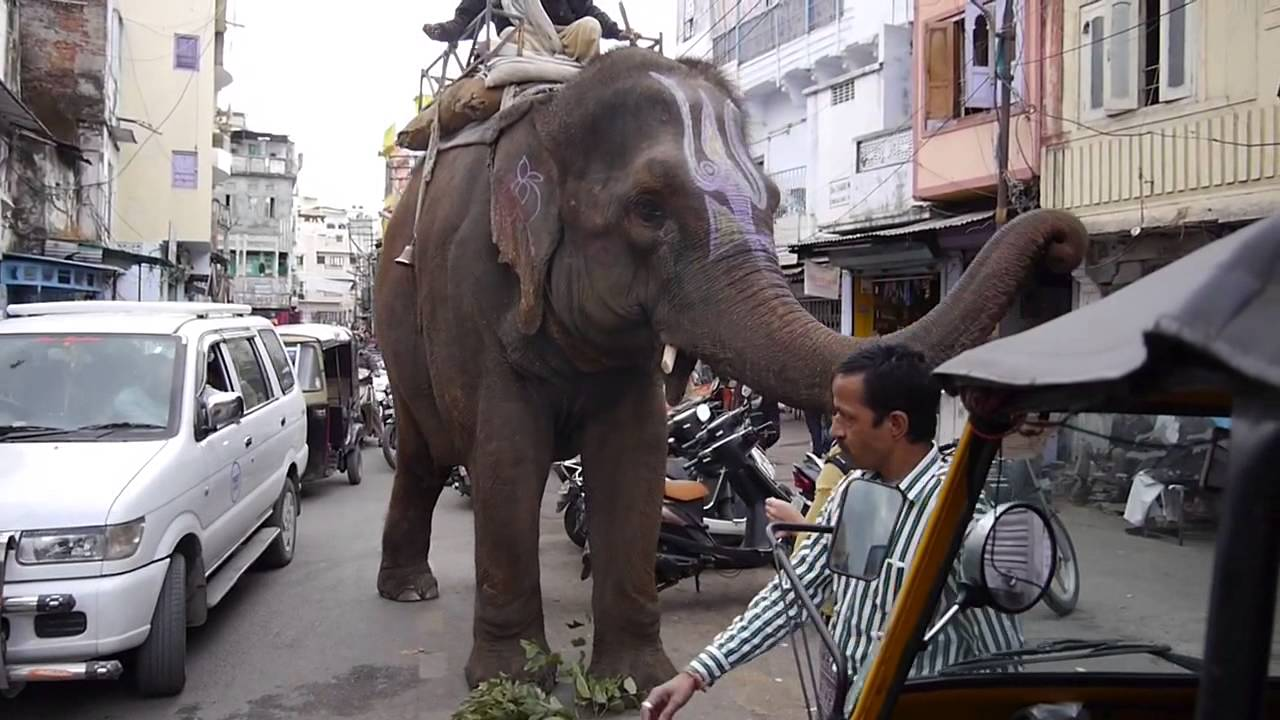Indian Elephant: (333, 38, 1087, 719)
